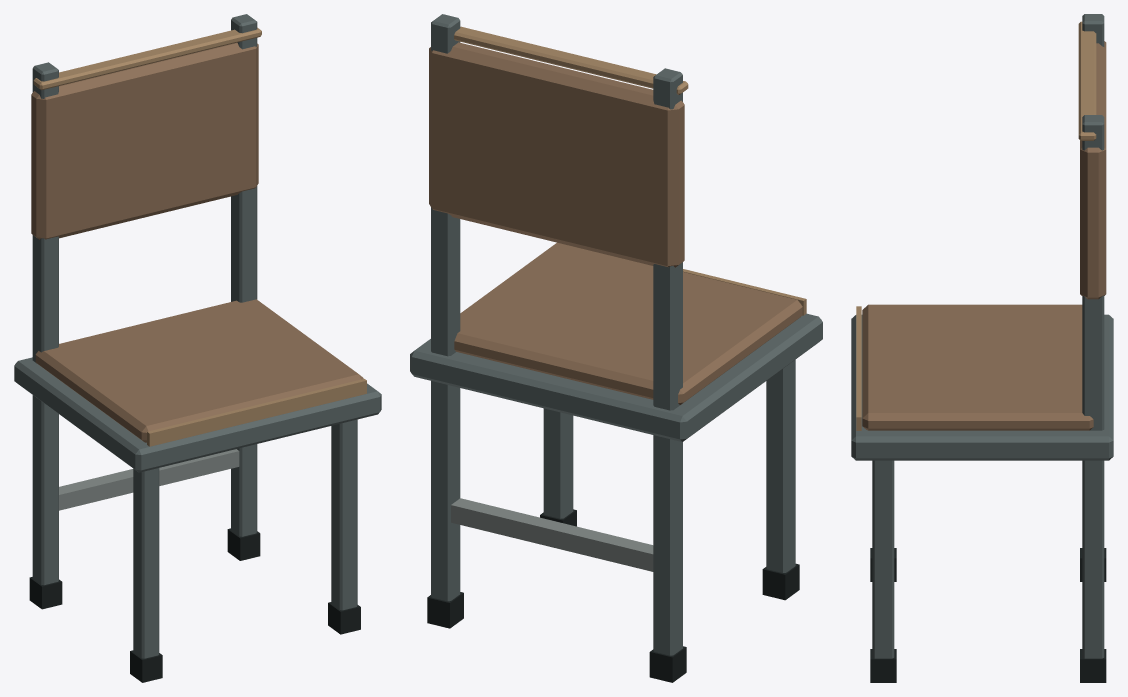
Rendered from school_computer_chair.glb.
3 views of the same model, side by side, from view 1: azimuth 30°, elevation 25°; view 2: azimuth 150°, elevation 25°; view 3: azimuth 270°, elevation 25° (orthographic). The views are drawn at different scales.
Visible parts, largest first — view 1: school_computer_chair__WornSchoolWood, school_computer_chair__PaintedSteel, school_computer_chair__ExposedWood, school_computer_chair__WornSteelEdge, school_computer_chair__Rubber; view 2: school_computer_chair__WornSchoolWood, school_computer_chair__PaintedSteel, school_computer_chair__WornSteelEdge, school_computer_chair__ExposedWood, school_computer_chair__Rubber; view 3: school_computer_chair__WornSchoolWood, school_computer_chair__PaintedSteel, school_computer_chair__ExposedWood, school_computer_chair__Rubber.
Part boxes in pixels (x1,y1,x2,y2): school_computer_chair__WornSchoolWood: (31,42,363,442); school_computer_chair__PaintedSteel: (14,14,381,658); school_computer_chair__ExposedWood: (33,27,366,446); school_computer_chair__WornSteelEdge: (59,449,239,510); school_computer_chair__Rubber: (29,528,360,682); school_computer_chair__WornSchoolWood: (429,42,802,404); school_computer_chair__PaintedSteel: (410,14,822,655); school_computer_chair__WornSteelEdge: (451,498,653,571); school_computer_chair__ExposedWood: (454,26,806,315); school_computer_chair__Rubber: (427,509,799,682); school_computer_chair__WornSchoolWood: (862,41,1106,430); school_computer_chair__PaintedSteel: (851,14,1113,658); school_computer_chair__ExposedWood: (856,21,1096,430); school_computer_chair__Rubber: (870,548,1106,682).
Size of the model in its own units: 0.51 by 1.06 by 0.45.
